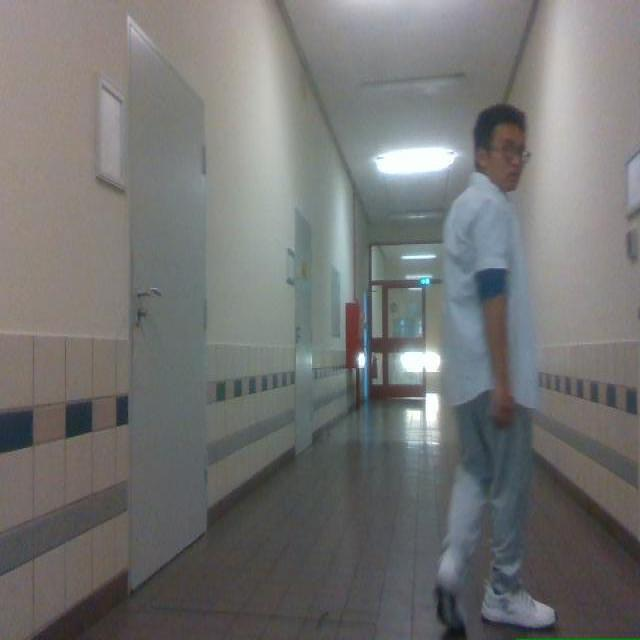humans: (436, 104, 555, 630)
